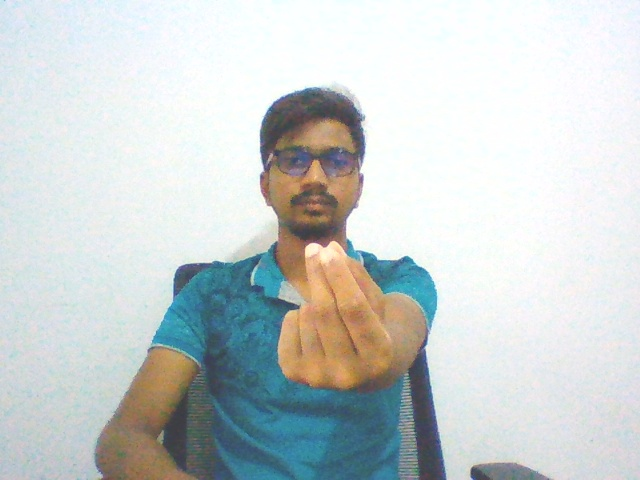dog: (267, 233, 408, 405)
